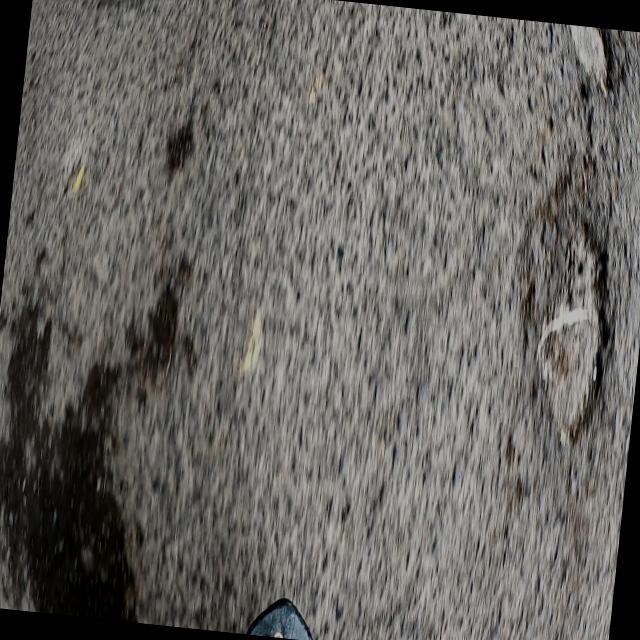Lubang: (536, 227, 599, 442), (570, 26, 607, 96)
